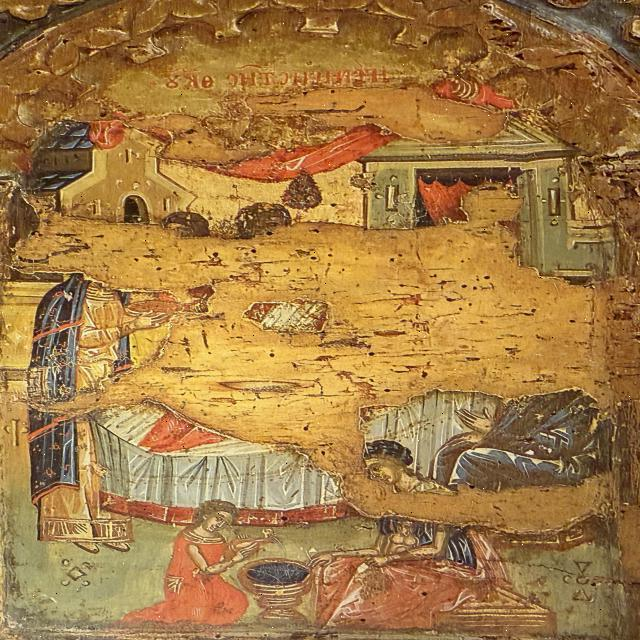basin: (235, 551, 313, 627)
